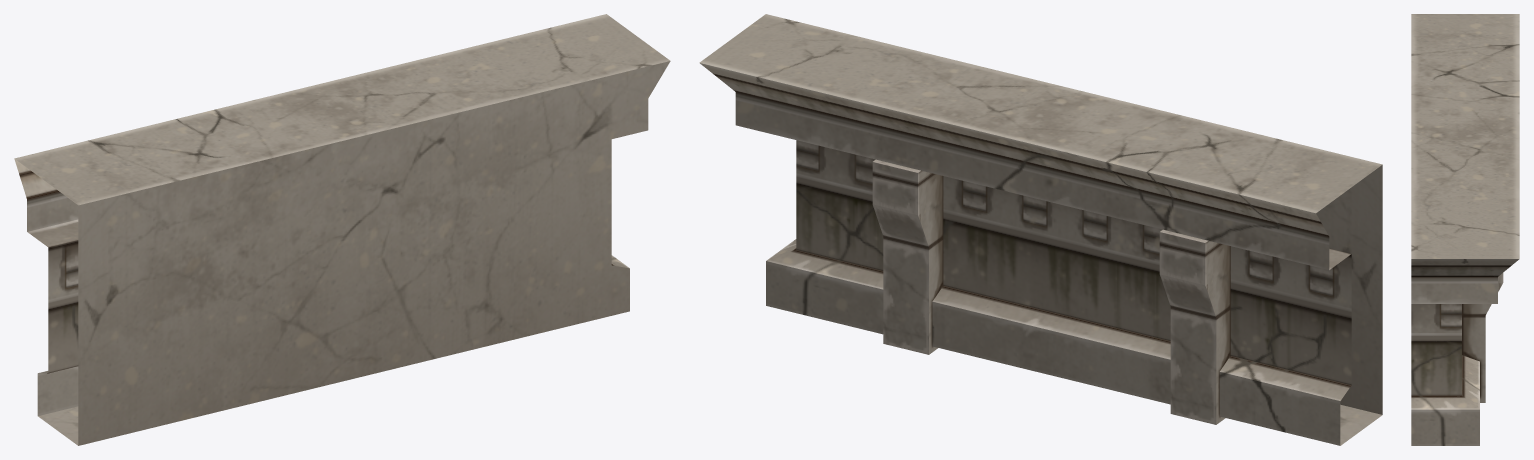
File: ARC0110008.fbx
3 views of the same model, side by side, from view 1: azimuth 30°, elevation 25°; view 2: azimuth 150°, elevation 25°; view 3: azimuth 270°, elevation 25° (orthographic). The views are drawn at different scales.
Parts seen in each view (by area): view 1: smARC0110008; view 2: smARC0110008; view 3: smARC0110008.
Boxes of the visible parts, <box> form: smARC0110008: <box>14,14,670,445</box>; smARC0110008: <box>699,14,1382,445</box>; smARC0110008: <box>1411,14,1519,445</box>.
Bounding box in the file's own units: 347 × 138 × 65.
Materials: 1 (1 with a texture image).
